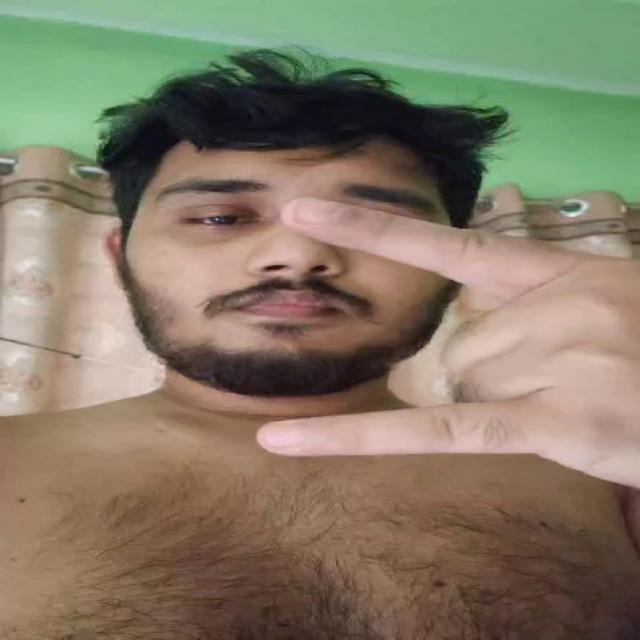No: (250, 199, 636, 470)
